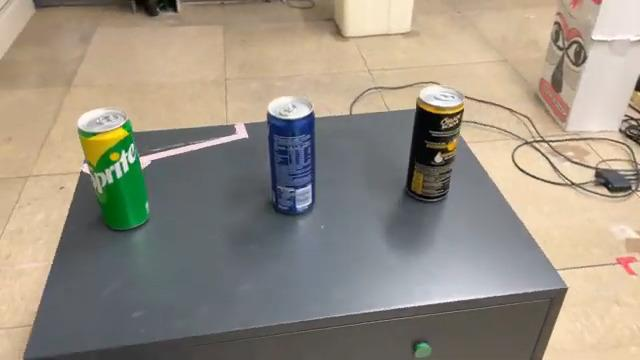OranSoda: (401, 82, 467, 206)
Pepsi: (264, 93, 320, 221)
Sprite: (75, 104, 155, 236)
